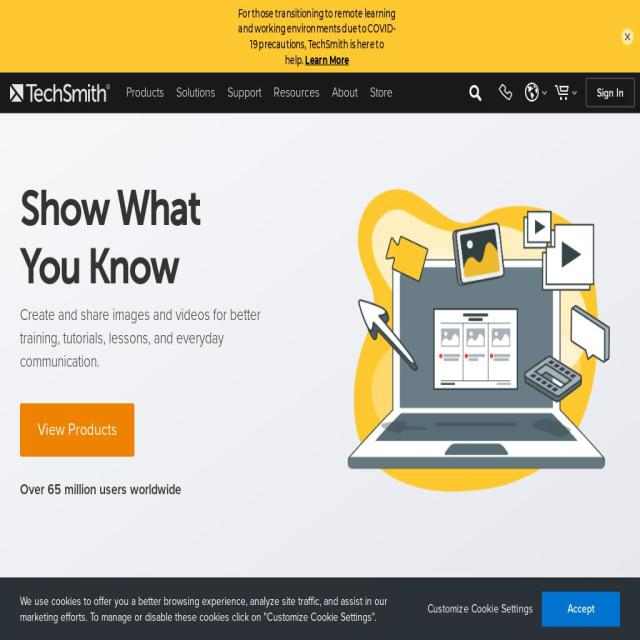button: (20, 403, 134, 458), (427, 592, 533, 626), (542, 592, 620, 626), (268, 72, 326, 112), (10, 81, 110, 104), (170, 72, 221, 112), (120, 72, 170, 112), (222, 72, 268, 112), (326, 72, 364, 112), (586, 78, 635, 108), (364, 72, 398, 112), (490, 72, 520, 112), (520, 72, 550, 112), (550, 72, 580, 112), (460, 72, 490, 112), (621, 27, 634, 45)
heading: (20, 181, 199, 238), (20, 239, 178, 297), (337, 628, 620, 640)
iframe: (0, 0, 640, 72)
image: (337, 164, 620, 518), (10, 82, 110, 103)
text: (20, 304, 303, 374), (20, 593, 410, 625), (20, 480, 181, 499), (594, 84, 626, 104)
